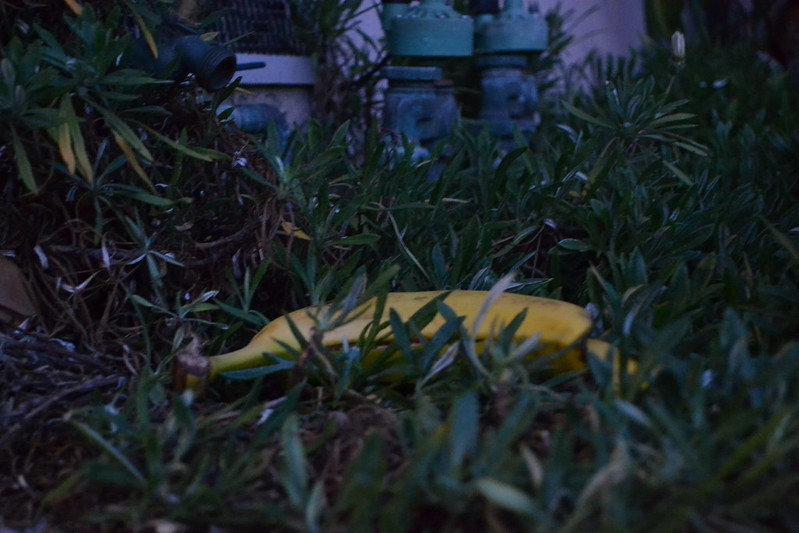banana: (221, 291, 646, 391)
